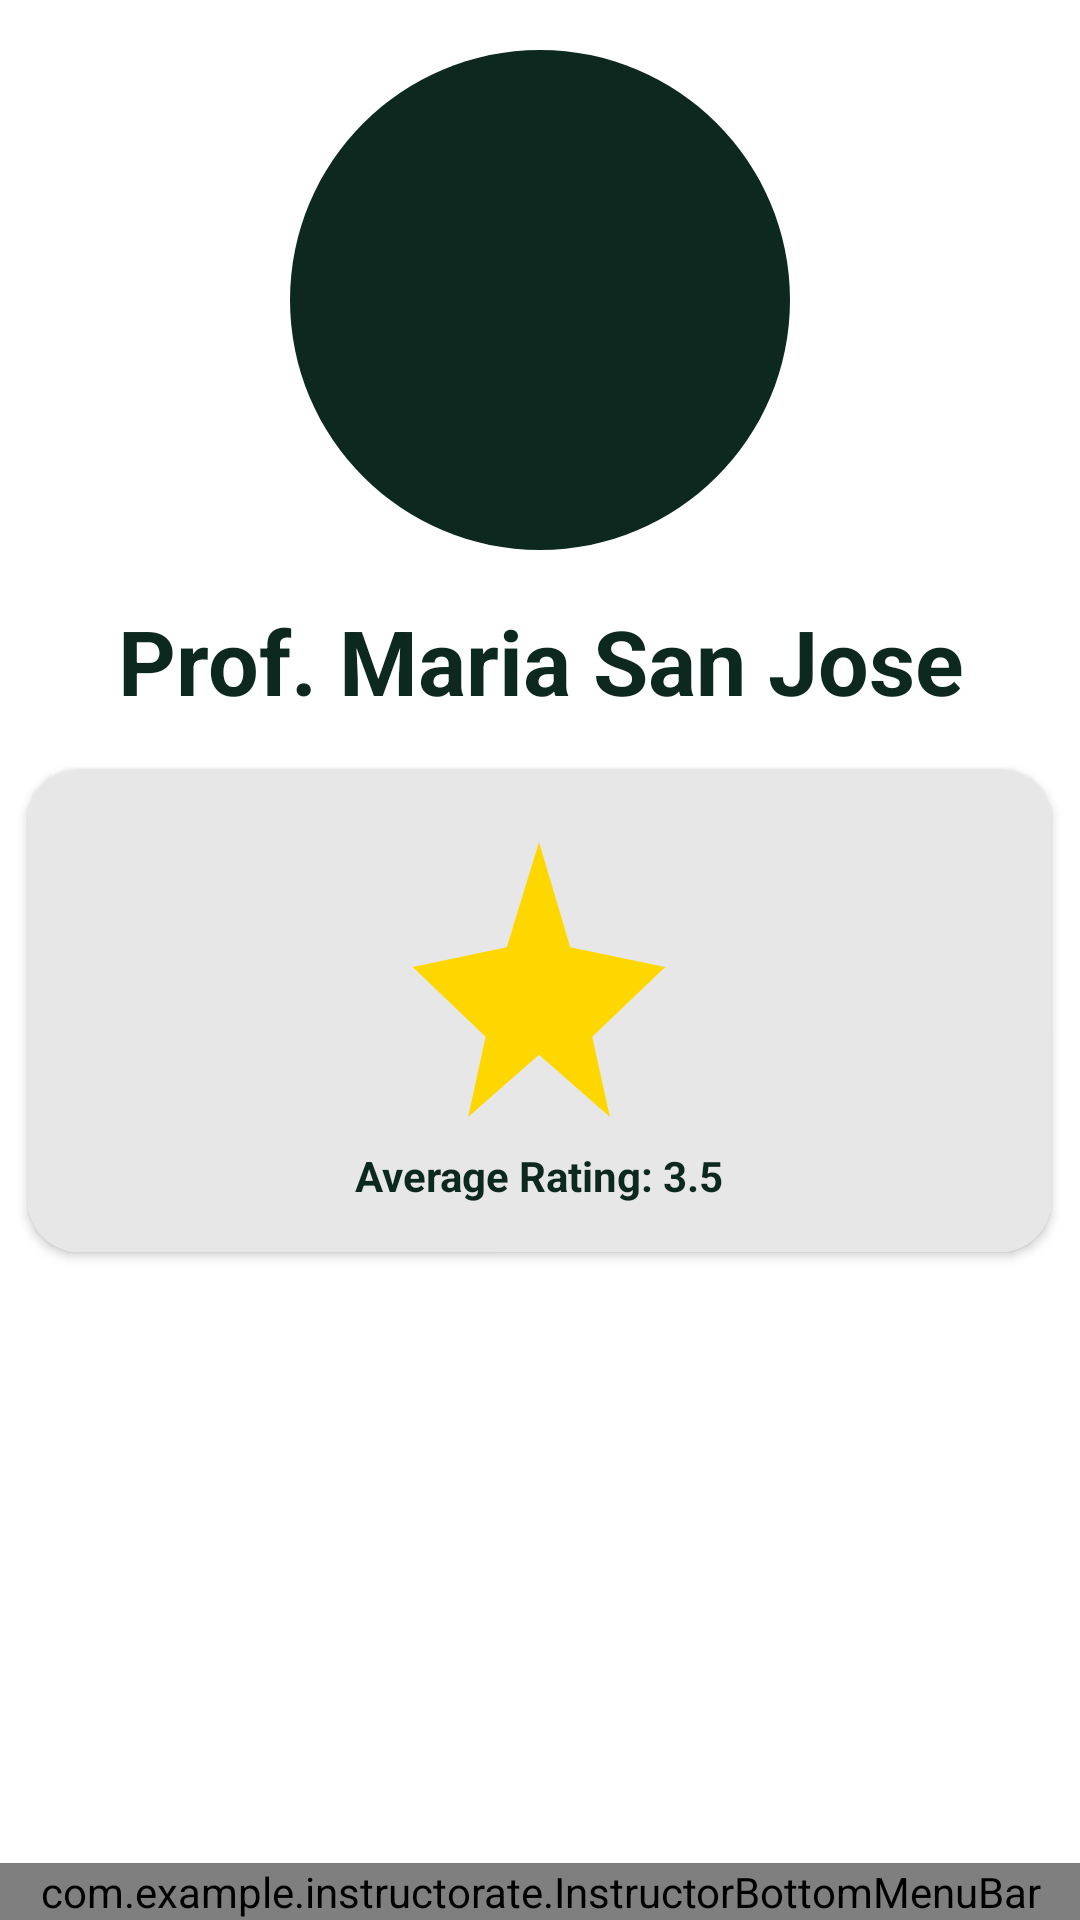

Named icons in this screenshot (1080px×1920px) and their bounding boxes, [x1,y1,x2,y2]:
star: [413,842,665,1117]
